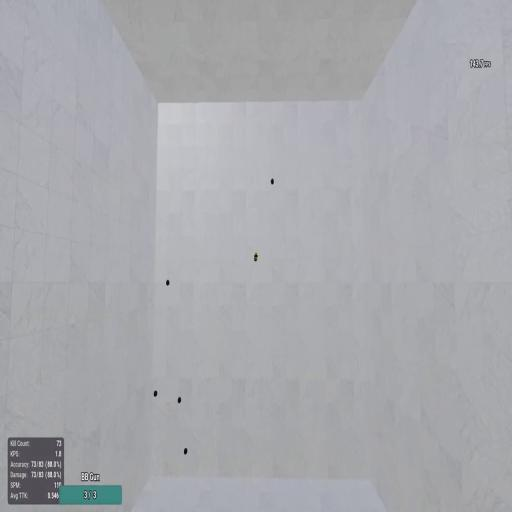Crosshair: (254, 252, 258, 260)
Target: (183, 447, 188, 455), (270, 177, 274, 186), (154, 389, 158, 397), (254, 256, 258, 262), (166, 279, 169, 286), (178, 396, 181, 403)
